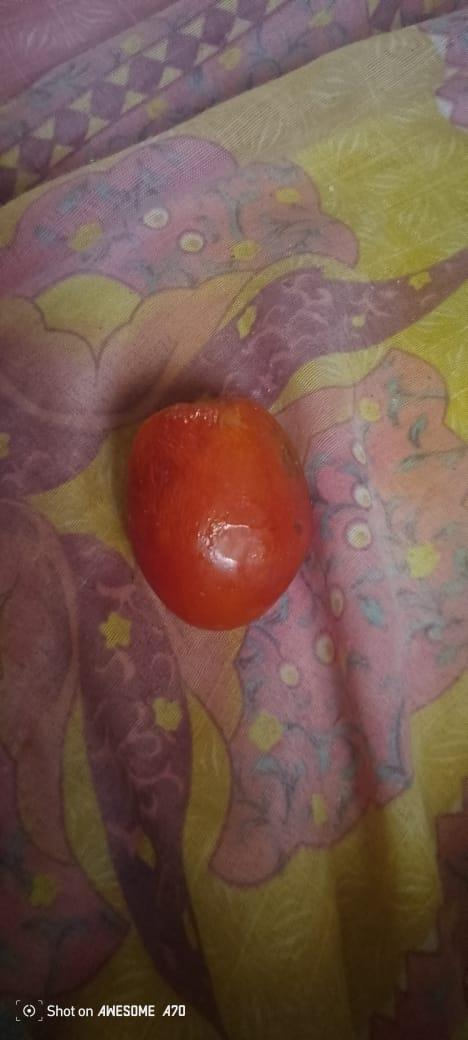non-mango: (117, 391, 307, 632)
